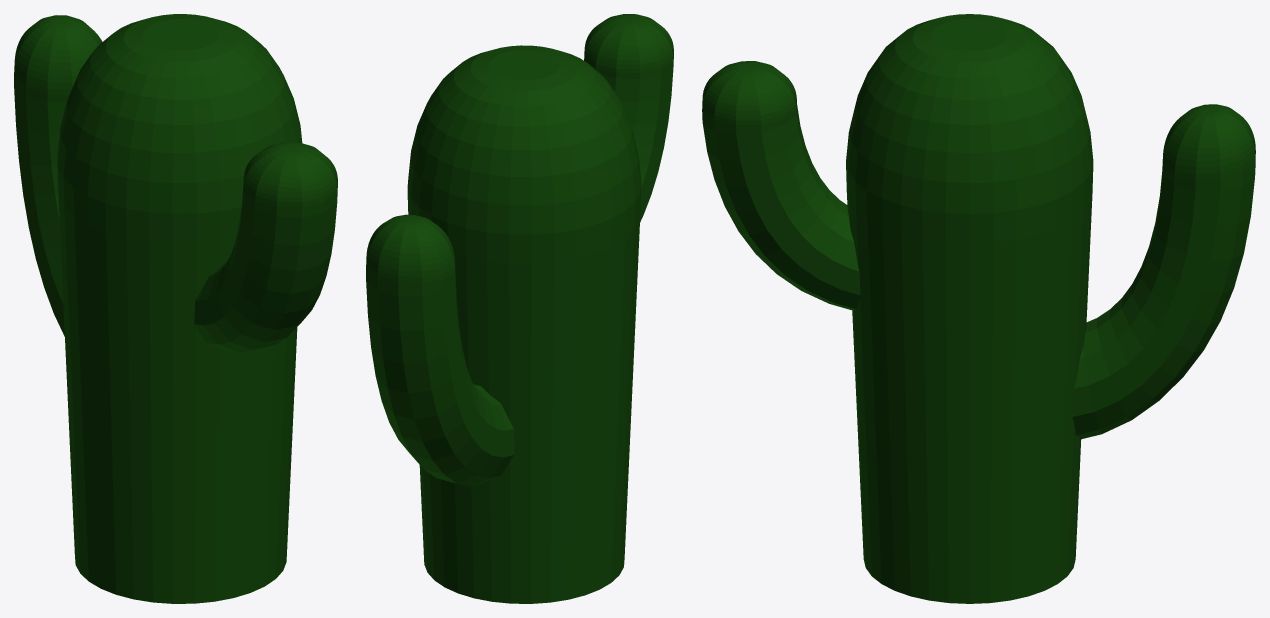
File: CactusStill.glb
The picture shows the model from 3 angles, left to right: view 1: azimuth 30°, elevation 25°; view 2: azimuth 150°, elevation 25°; view 3: azimuth 270°, elevation 25°; orthographic projection. The views are drawn at different scales.
Visible parts, largest first — view 1: Cylinder, BézierCurve.001, BézierCurve; view 2: Cylinder, BézierCurve, BézierCurve.001; view 3: Cylinder, BézierCurve, BézierCurve.001.
Boxes of the visible parts, x1,y1,x2,y2 form: Cylinder: [57, 14, 302, 603]; BézierCurve.001: [194, 142, 337, 352]; BézierCurve: [14, 15, 102, 336]; Cylinder: [407, 45, 641, 603]; BézierCurve: [366, 214, 514, 486]; BézierCurve.001: [584, 14, 673, 222]; Cylinder: [846, 14, 1093, 603]; BézierCurve: [1072, 104, 1255, 439]; BézierCurve.001: [702, 61, 860, 310].
Size of the model in its own units: 1.32 by 3.07 by 2.94.
